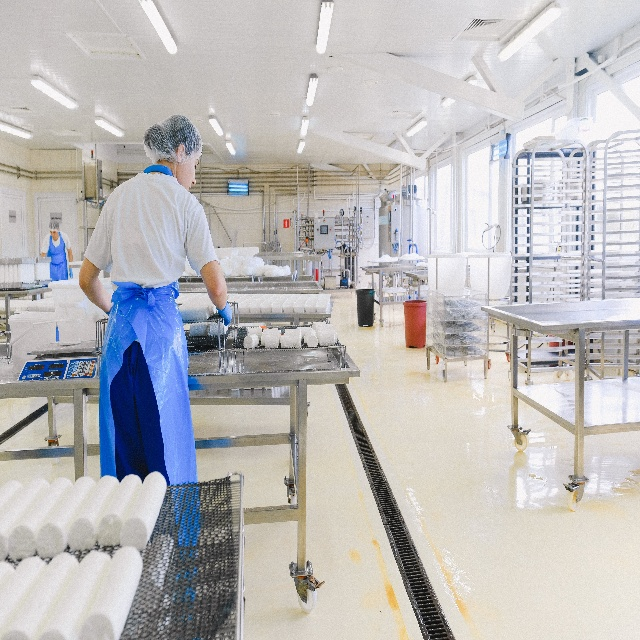Guantes: (216, 301, 232, 325), (69, 267, 73, 278)
